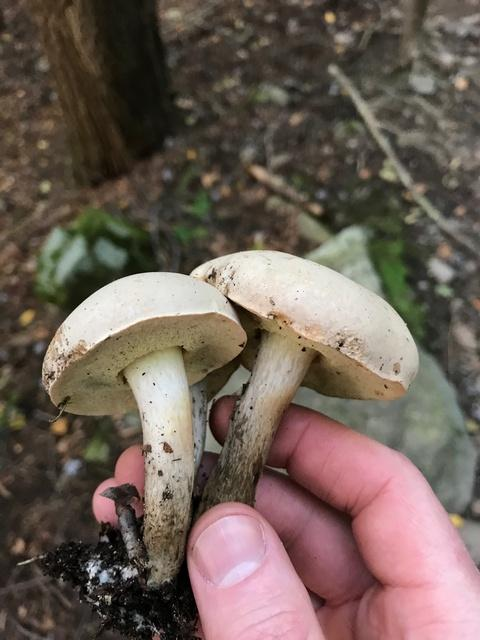Edible Mushroom: (40, 269, 247, 590), (187, 247, 420, 519)
